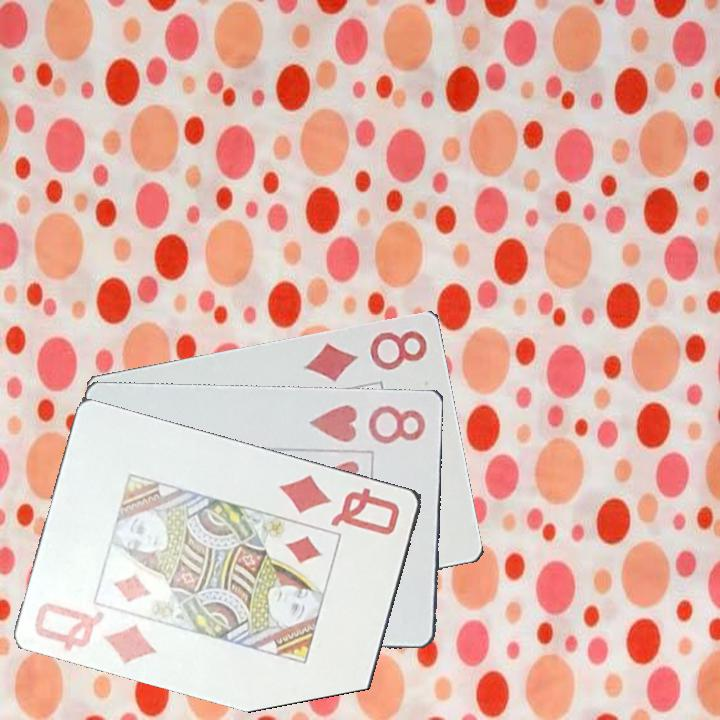8d: (300, 325, 431, 384)
8h: (306, 401, 429, 446)
Qd: (31, 598, 159, 667), (276, 471, 404, 538)
